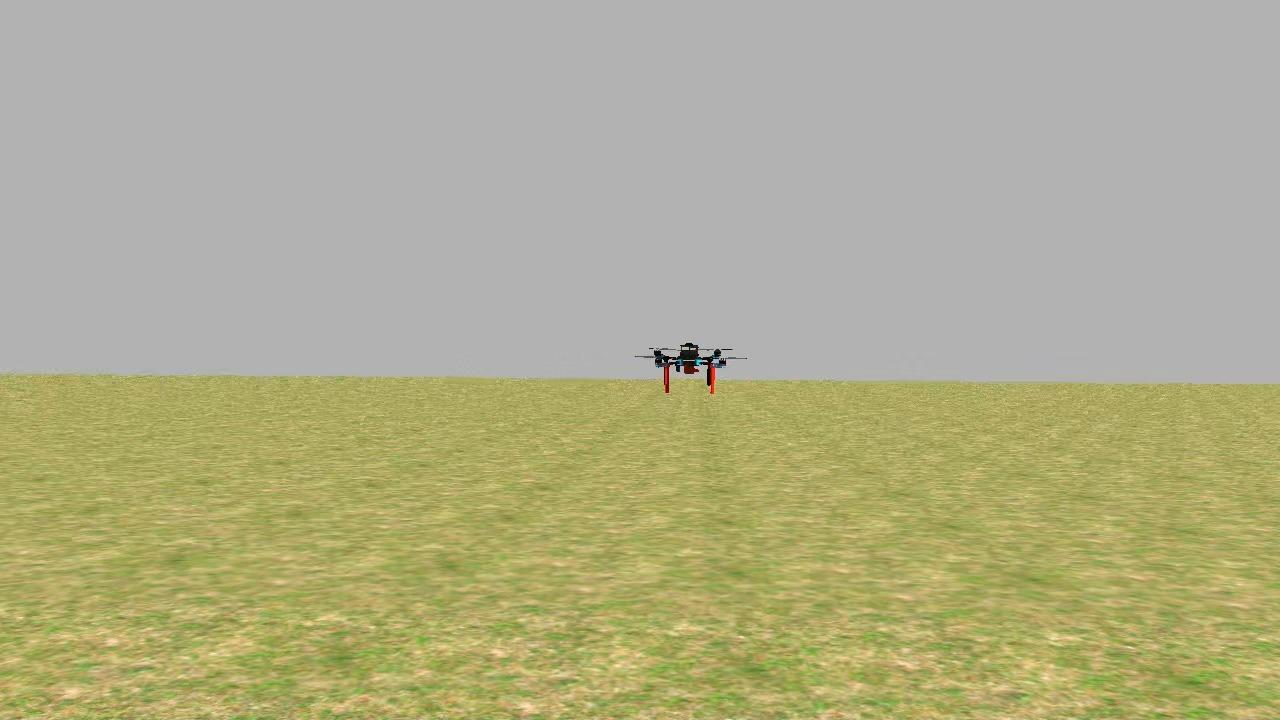UAV: (636, 327, 747, 402)
